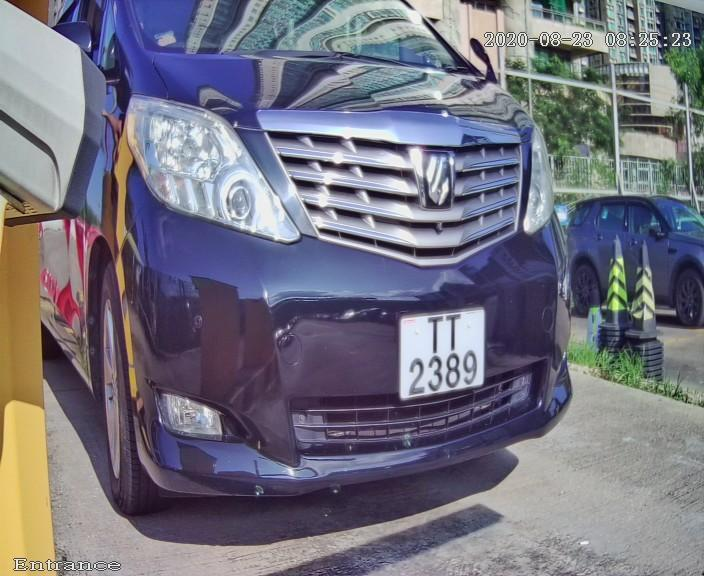Car: (19, 3, 617, 556)
License Plate: (387, 296, 497, 415)
